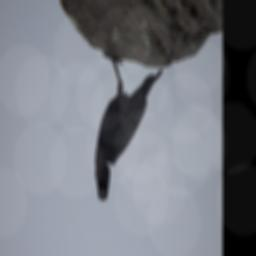Crow: (94, 53, 163, 203)
